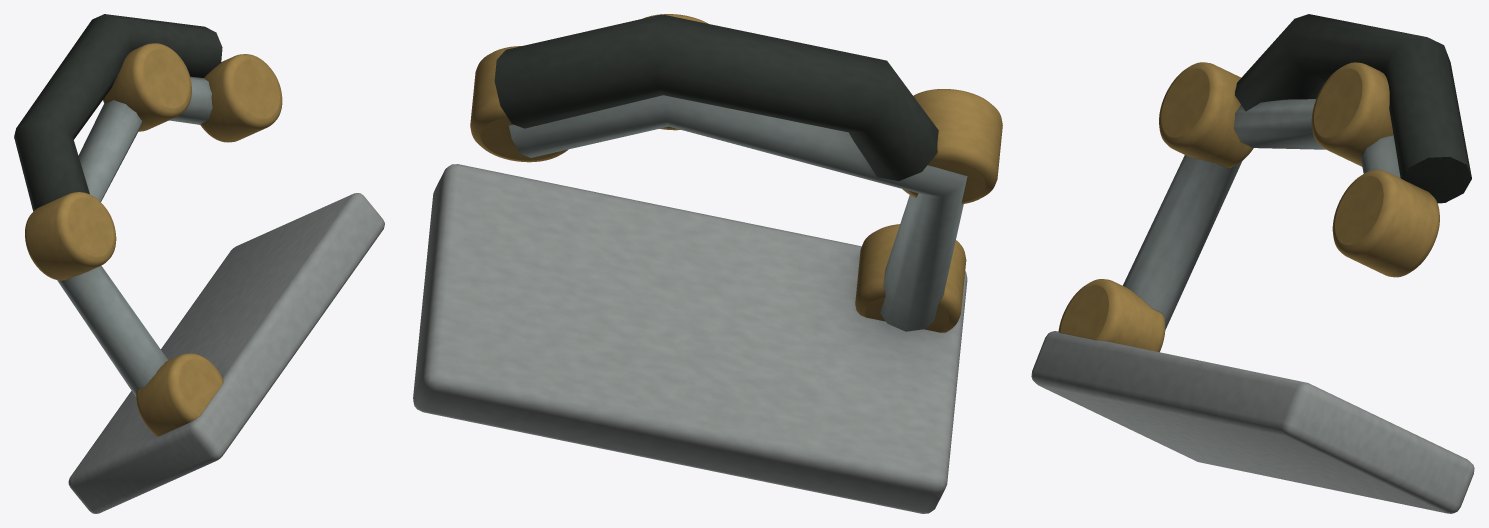
3 renders of one model, left to right at view 1: azimuth 30°, elevation 25°; view 2: azimuth 150°, elevation 25°; view 3: azimuth 270°, elevation 25°, orthographic. The views are drawn at different scales.
Visible parts, largest first — view 1: Arm installation foot; view 2: Arm installation foot; view 3: Arm installation foot.
Part boxes in pixels (left/top/right/bottom): Arm installation foot: left=14, top=14, right=384, bottom=513; Arm installation foot: left=413, top=14, right=1002, bottom=513; Arm installation foot: left=1031, top=14, right=1474, bottom=513.
Size of the model in its own units: 1.19 by 1.19 by 0.9888.
Materials: 1 (1 with a texture image).
